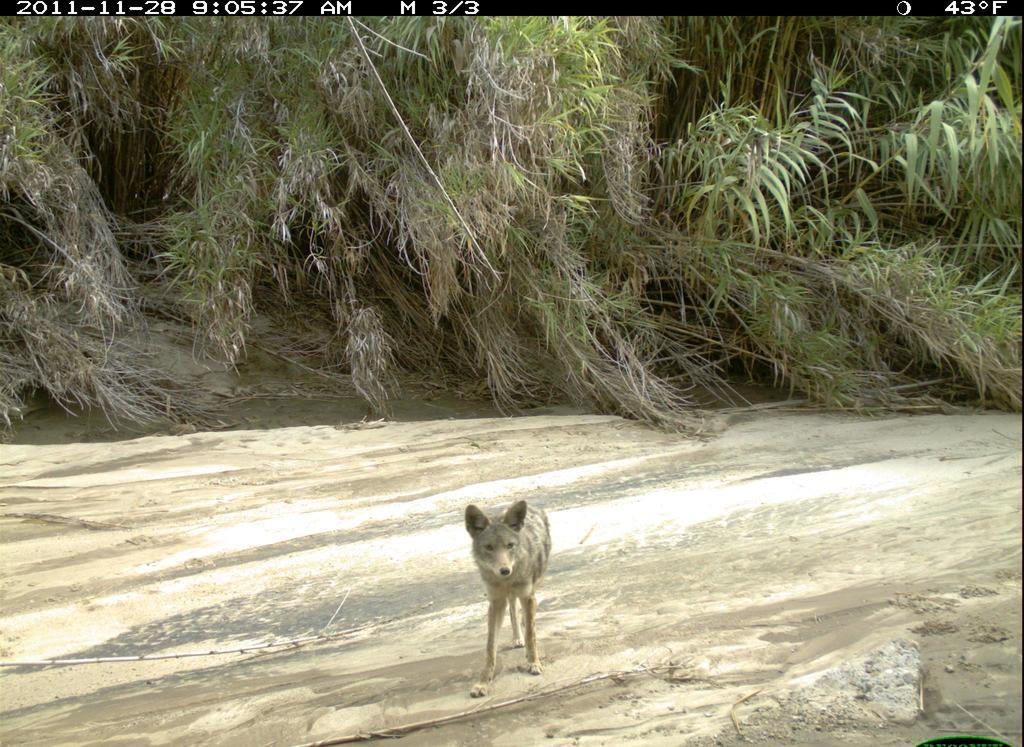coyote: (457, 500, 571, 706)
